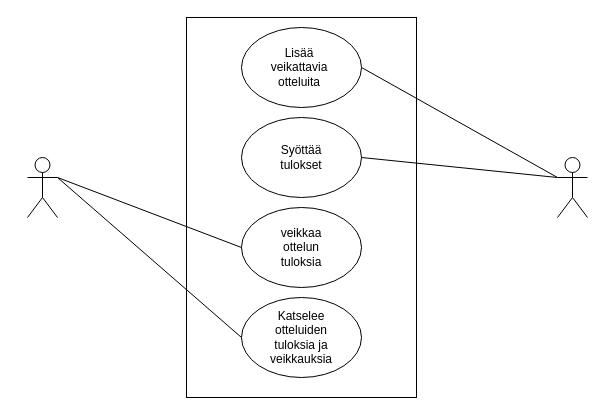
Image size: 614x415. Some labels were removed from this diagram. Each missing label, with the centre of its shape:
"Veikkaaja" goes at pixel 42 187.
"Ylläpitäjä" goes at pixel 572 187.
